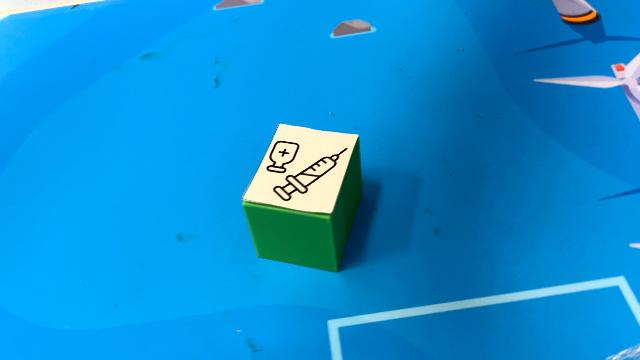syringe: (241, 122, 363, 272)
